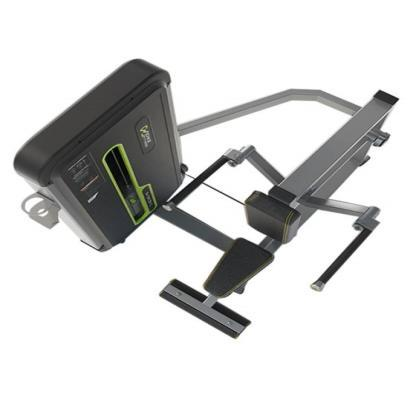seated dip machine: (13, 55, 400, 340)
